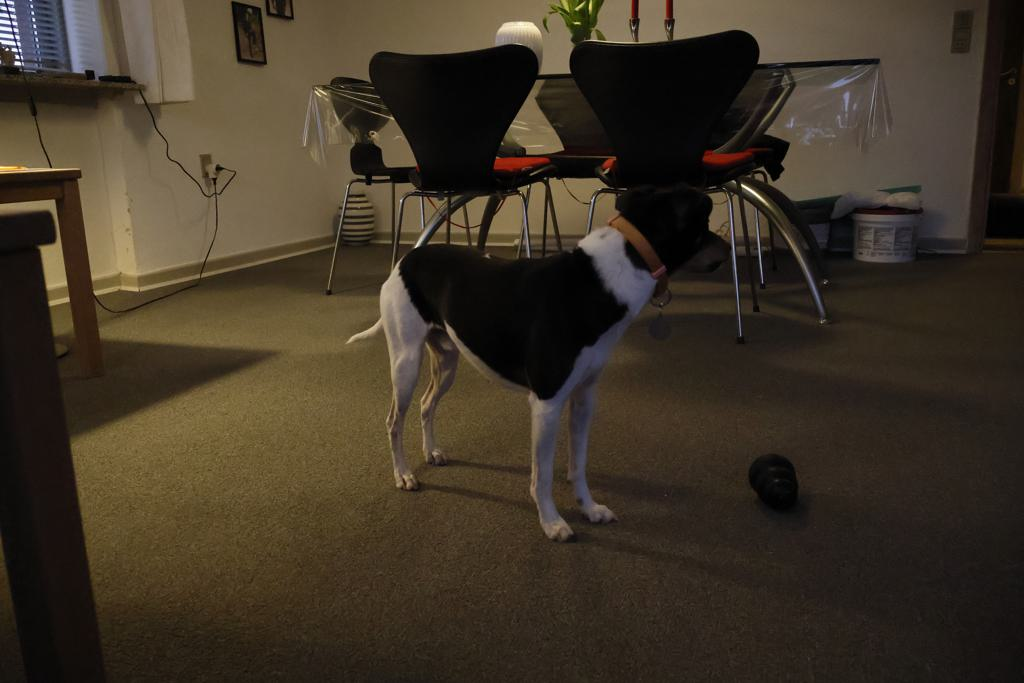Dog: (330, 172, 746, 551)
